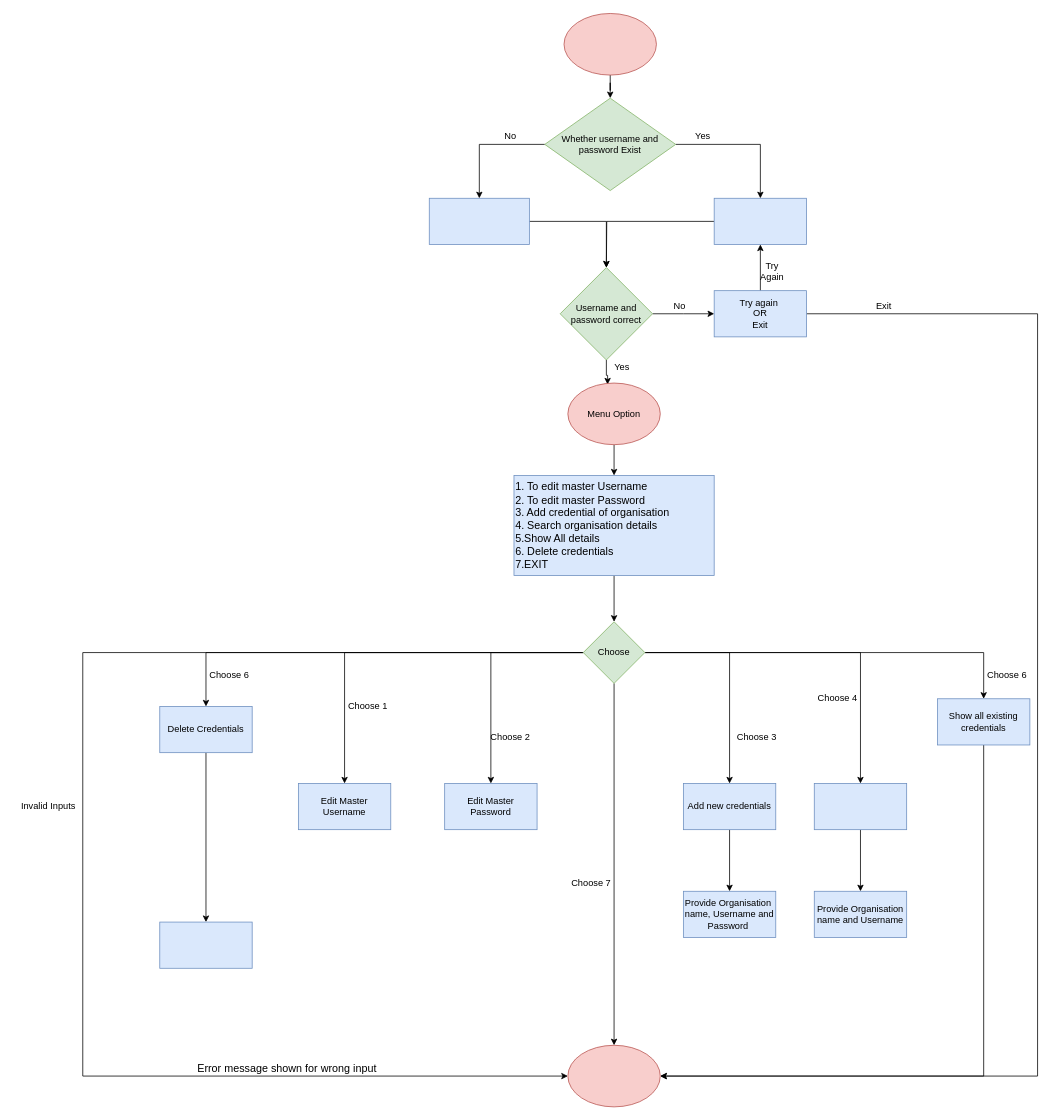
This 1057x1120 diagram has some shape labels left out. Here are the shapes that lost their labels. From the top down, the centre of each, then its label:
[609,44]: Enter Master Username And Password
[479,221]: Create username and password
[760,221]: Check username and password
[860,806]: Search any credentials
[205,944]: Delete selected credentials Delete All Credentials
[613,1076]: END
